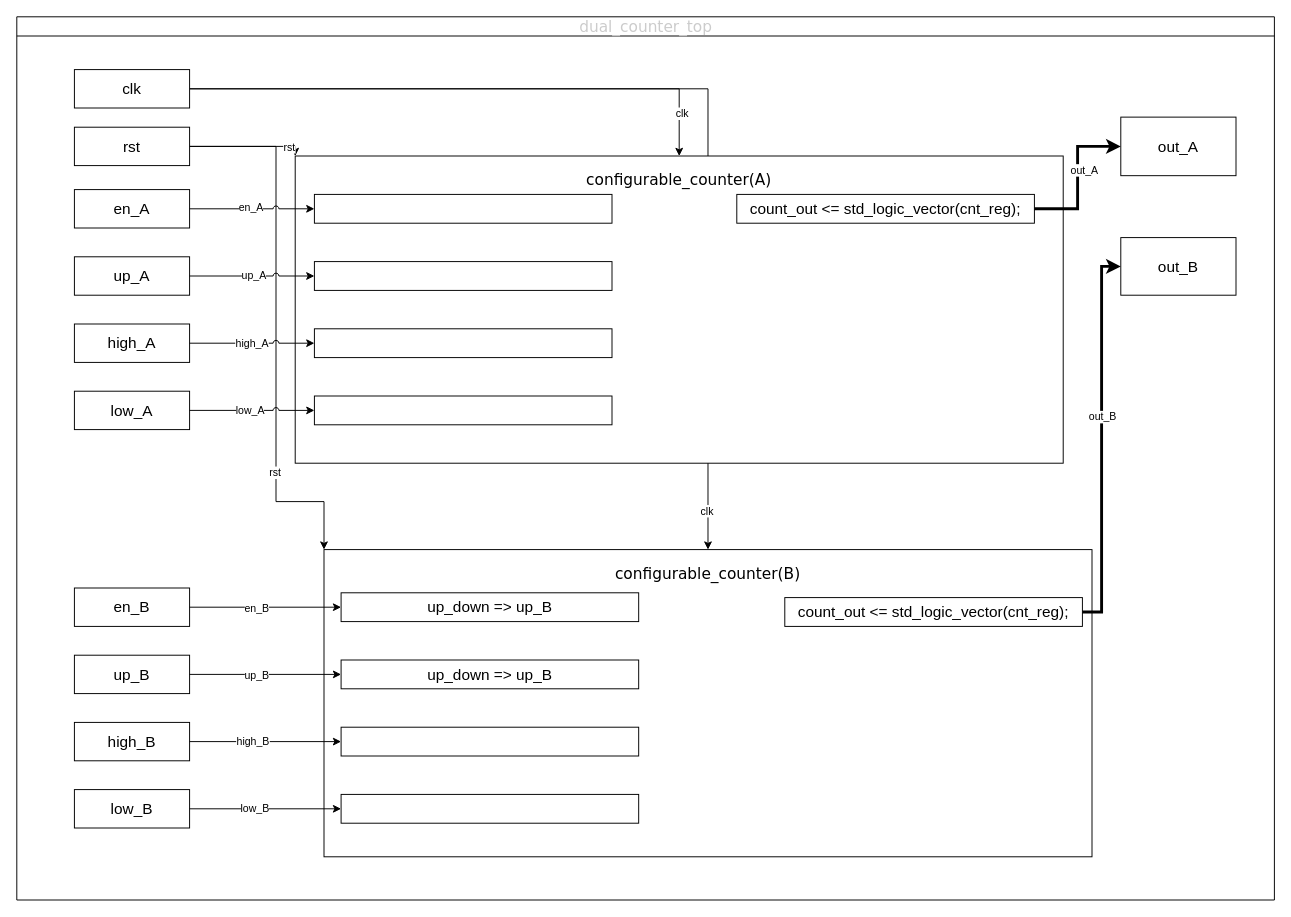
The diagram is 1291 pixels wide and 917 high, and some of its shapes have lost their labels. The shapes that lost their labels are listed below. From the top down, each one's centre as x and y in pixels, then its label:
At [462,208]: "en => en_A".
At [462,275]: "up_down => up_A".
At [462,343]: "upper_bound => high_A".
At [462,410]: "lower_bound => low_A".
At [489,741]: "upper_bound => high_B".
At [489,808]: "lower_bound => low_B".
